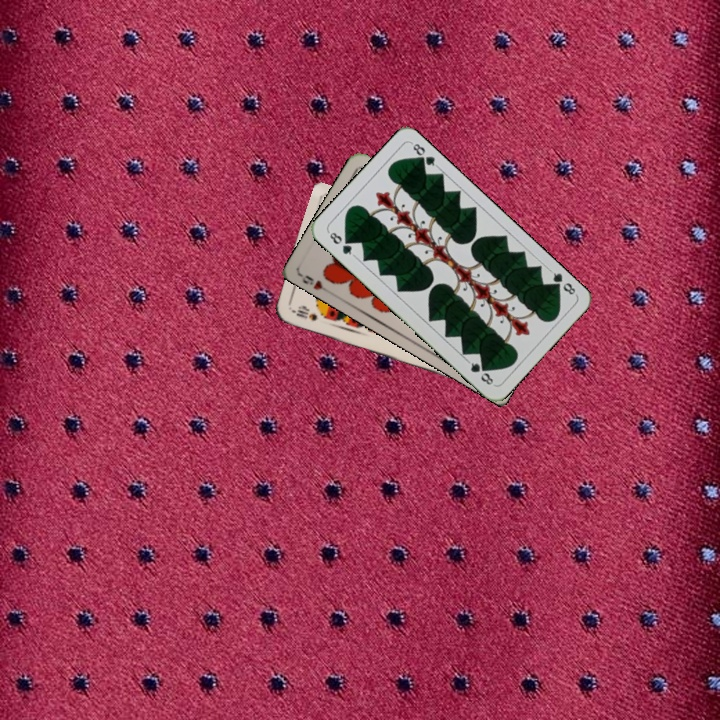G8: (324, 227, 357, 259), (546, 266, 580, 297)
H9: (299, 271, 325, 292)
S10: (287, 304, 320, 324)
